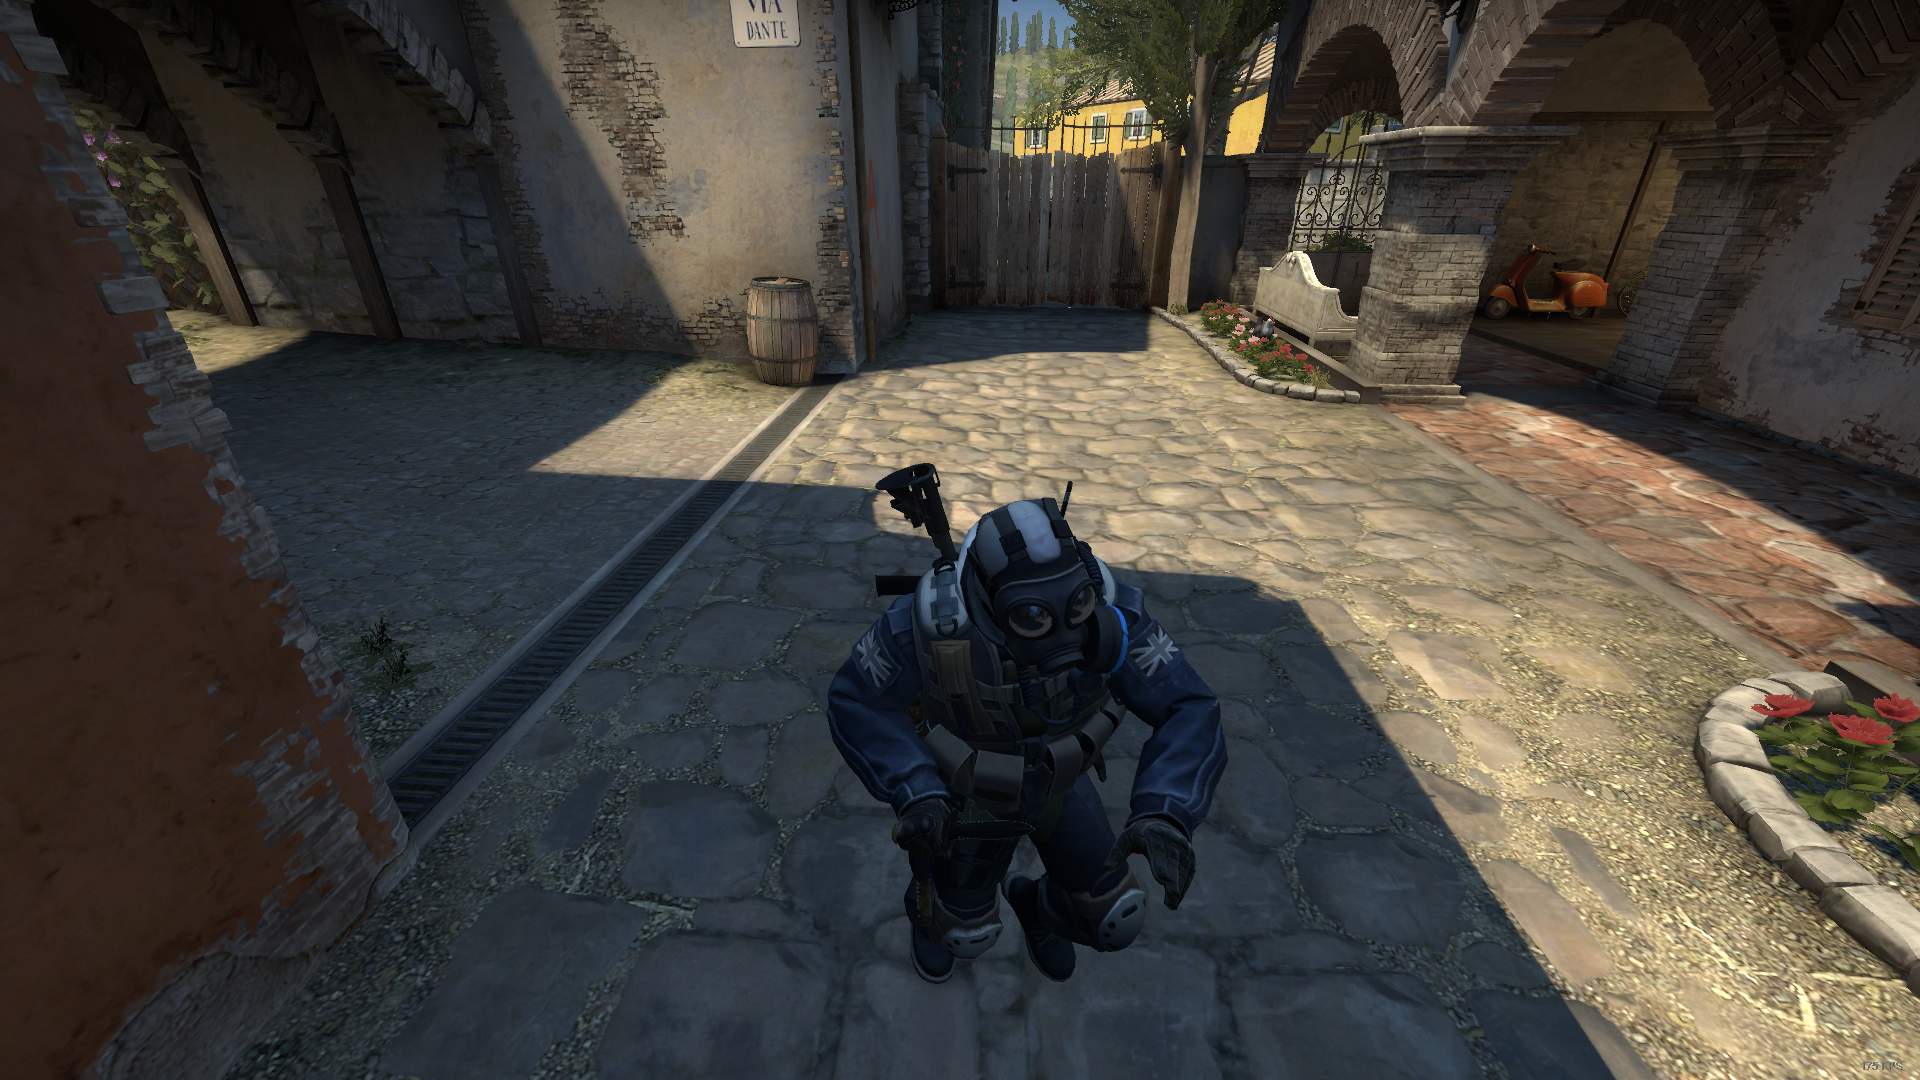ct: (796, 472, 1253, 1013)
